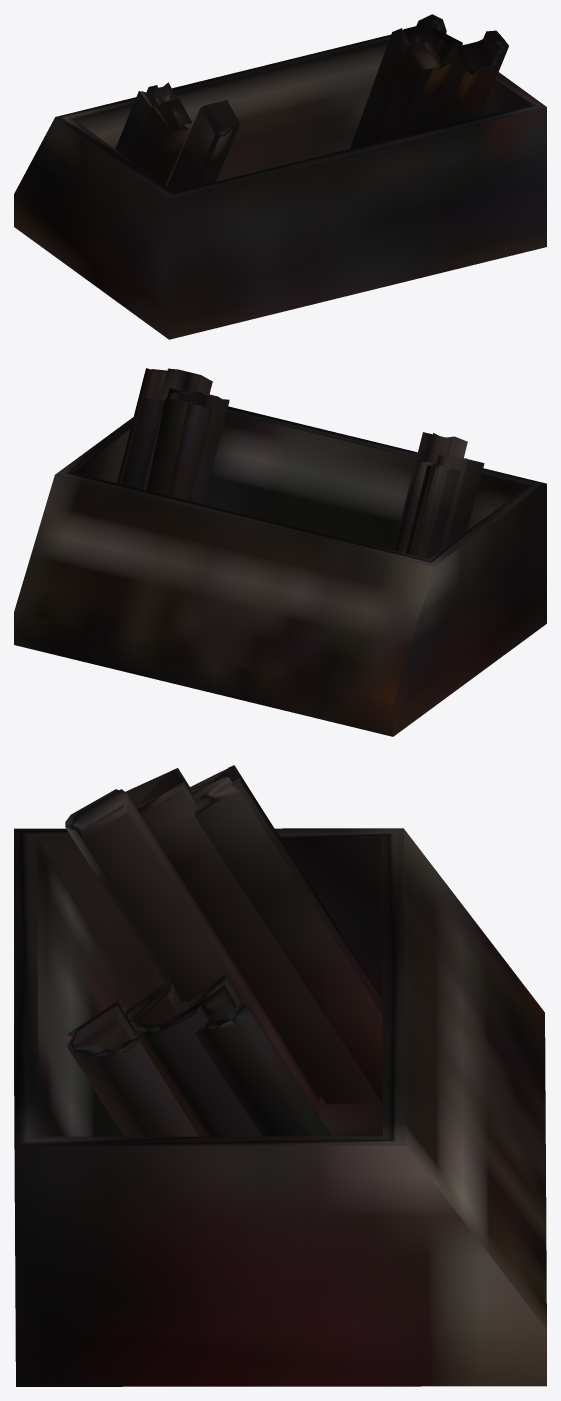
File: OparetionRoom_AI_Prop.035.fbx
3 renders of one model, top to bottom at view 1: azimuth 30°, elevation 25°; view 2: azimuth 150°, elevation 25°; view 3: azimuth 270°, elevation 25°, orthographic. The views are drawn at different scales.
Visible parts, largest first — view 1: OparetionRoom_AI_Prop.035; view 2: OparetionRoom_AI_Prop.035; view 3: OparetionRoom_AI_Prop.035.
Part boxes in pixels (bbox=[...]): OparetionRoom_AI_Prop.035: bbox=[14, 14, 546, 339]; OparetionRoom_AI_Prop.035: bbox=[14, 368, 546, 736]; OparetionRoom_AI_Prop.035: bbox=[14, 765, 546, 1386].
Bounding box in the file's own units: 33.91 × 16.8 × 24.01.
